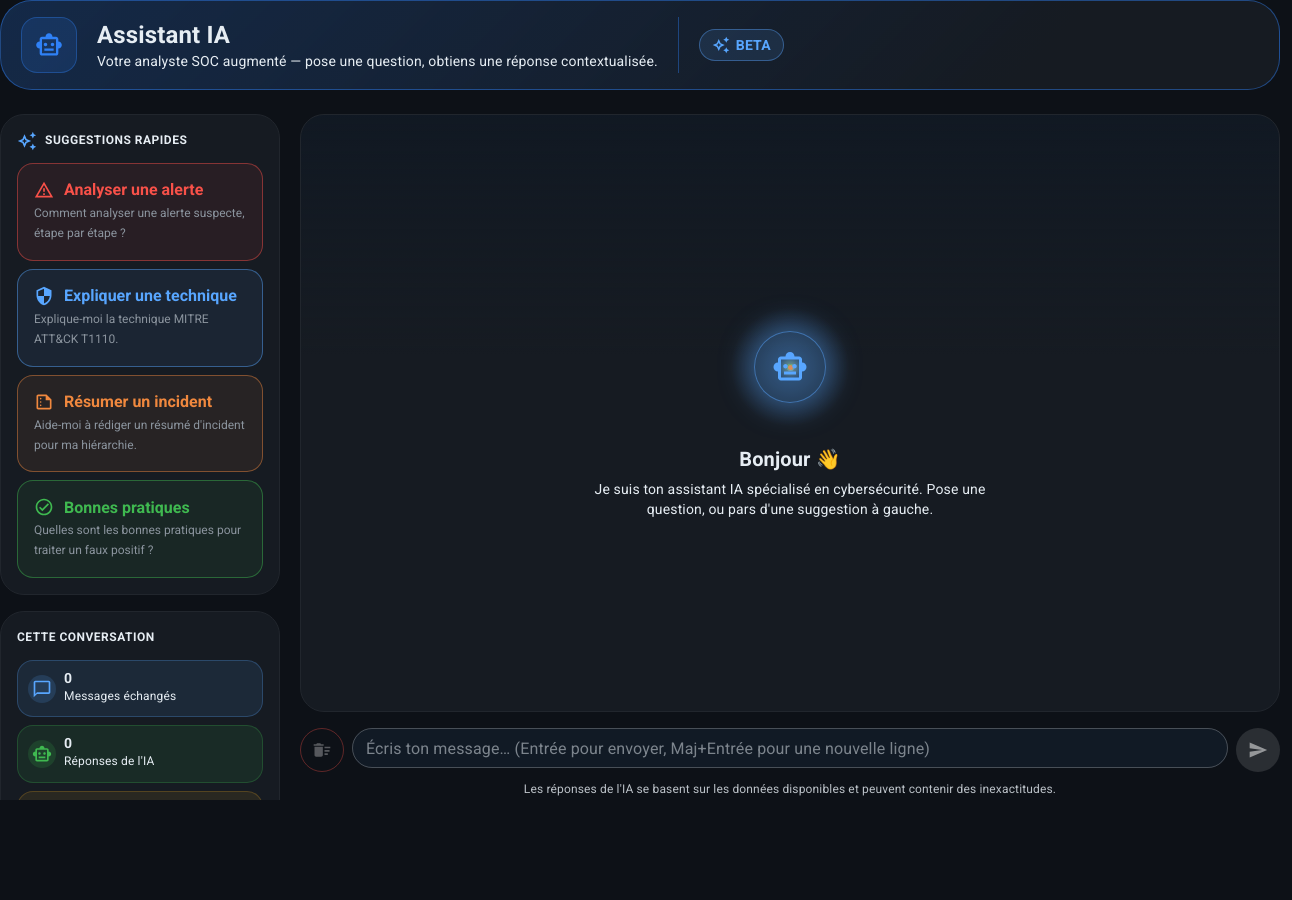
it: AssistantPage › shows a friendly message when the assistant is unavailable (503)
Replace the text in the text box with placeholder "Écris ton message" with "Bonjour". click: (790, 748)
box: [366, 737, 1214, 760]
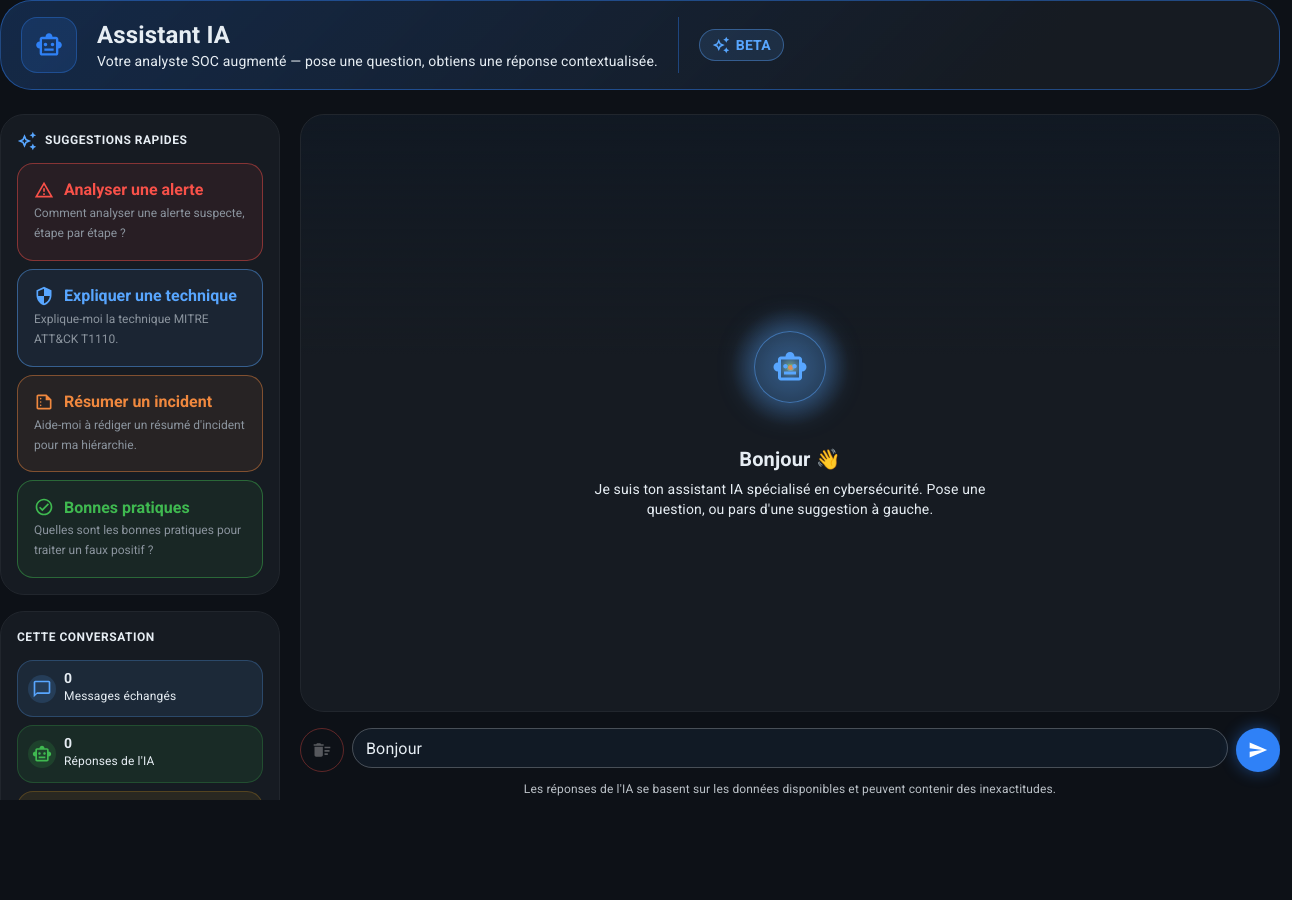
Click the button named "Envoyer". click: (1258, 750)
box: [1236, 728, 1280, 772]
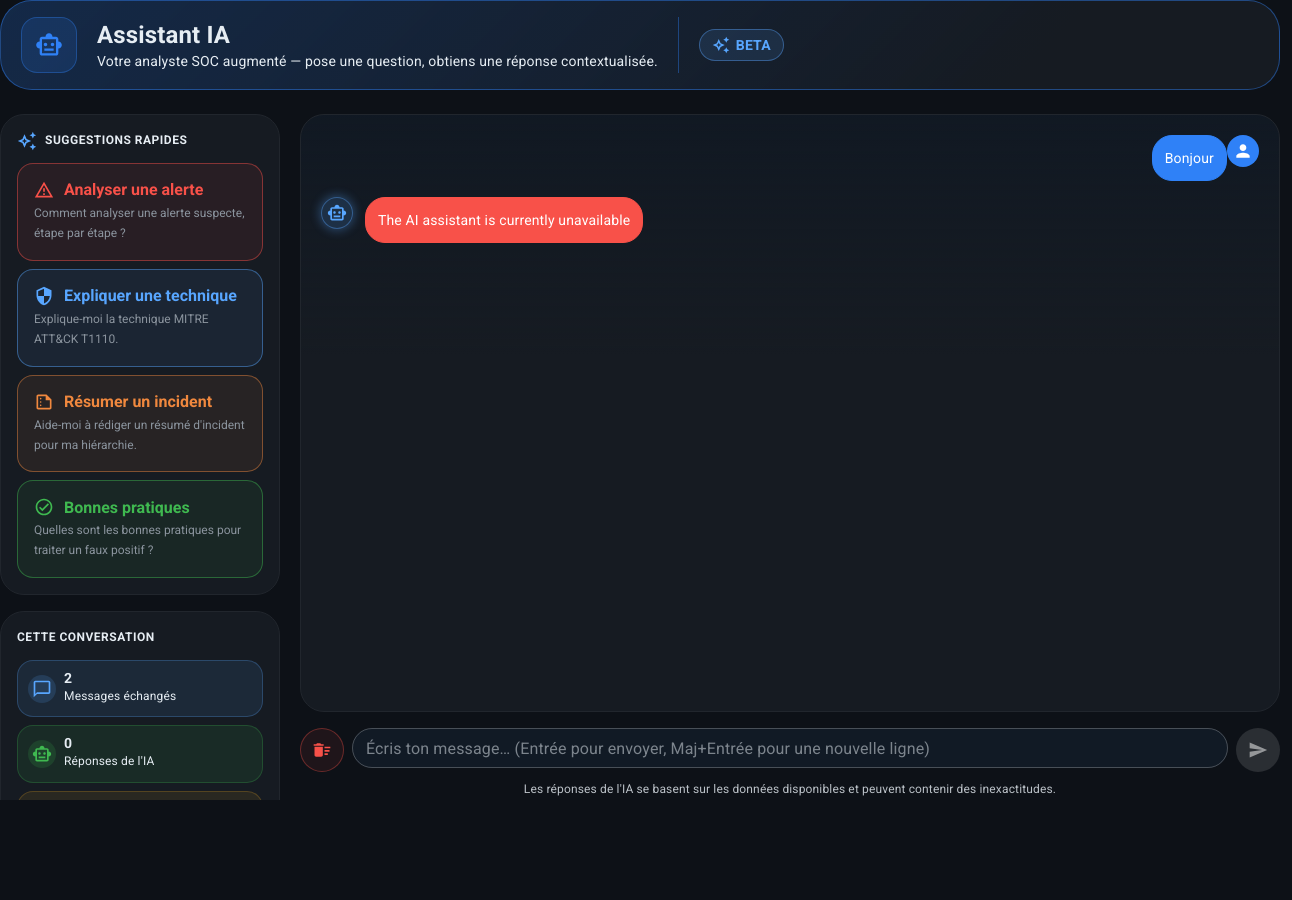
Check: the text "The AI assistant is currently unavailable" is shown, box [378, 210, 630, 230]
